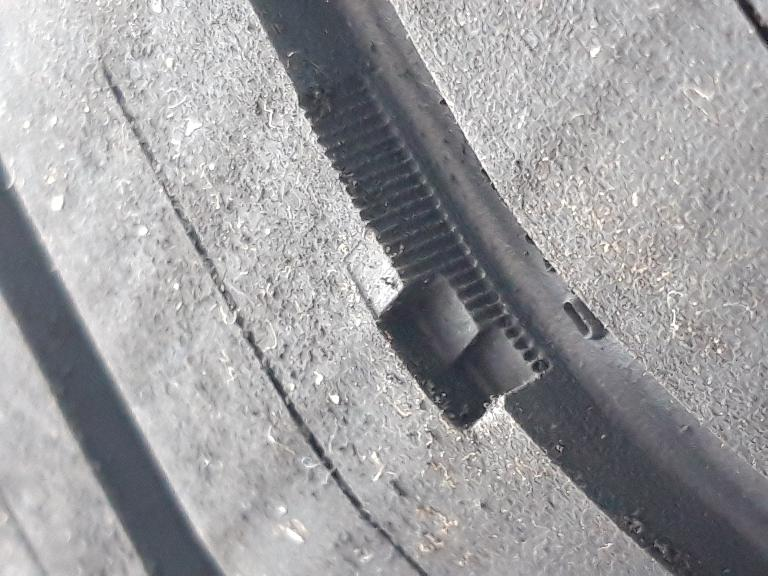temoin:50: (334, 200, 574, 452)
